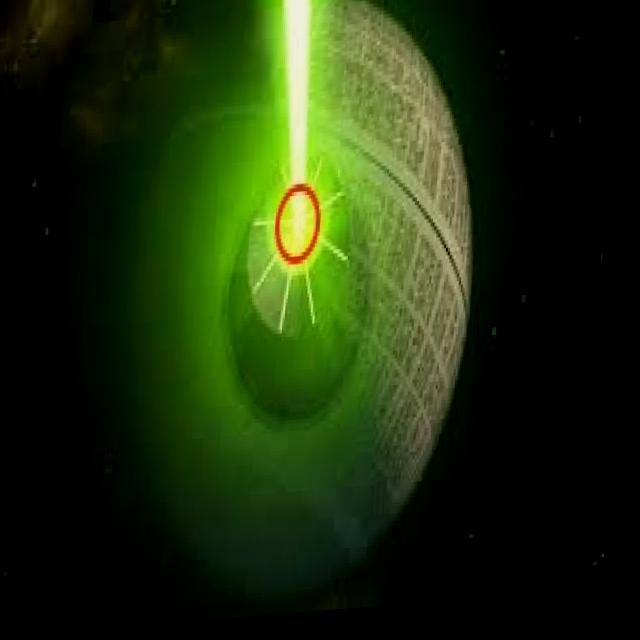deathStar: (99, 0, 491, 609)
